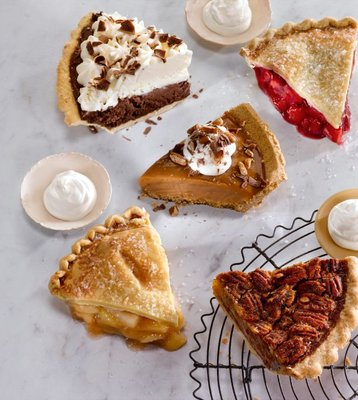soup: (47, 205, 187, 350), (238, 16, 357, 145)
sushi: (315, 188, 357, 261)
